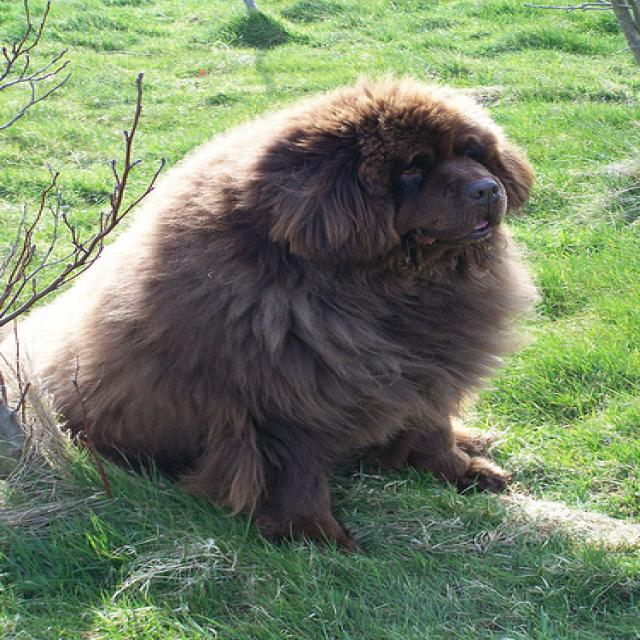dog-newfoundland: (2, 67, 538, 557)
